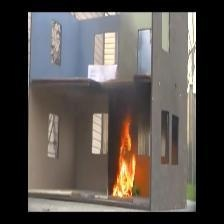fire: (105, 117, 142, 200)
